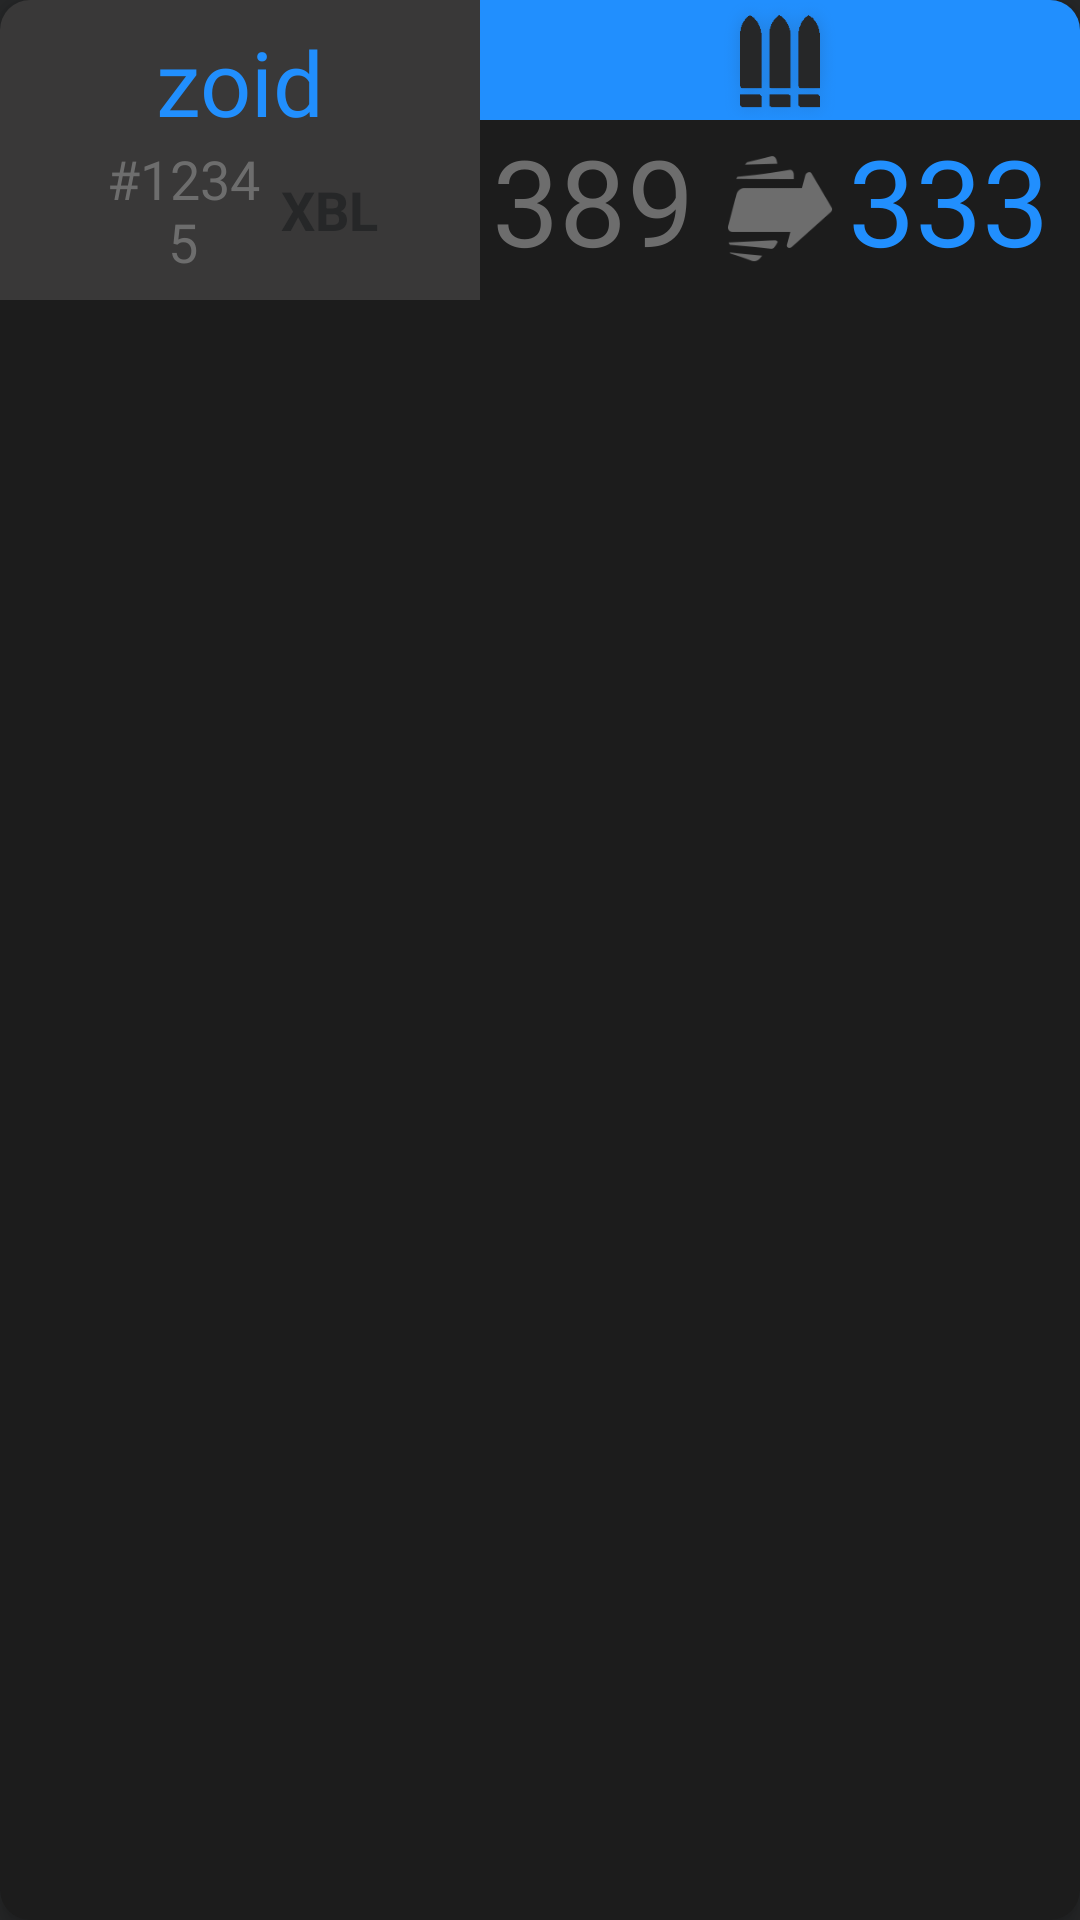

Named icons in this screenshot (1080w x 1920h) and their centers, (x=x, y=y):
arrow: (x=780, y=208)
